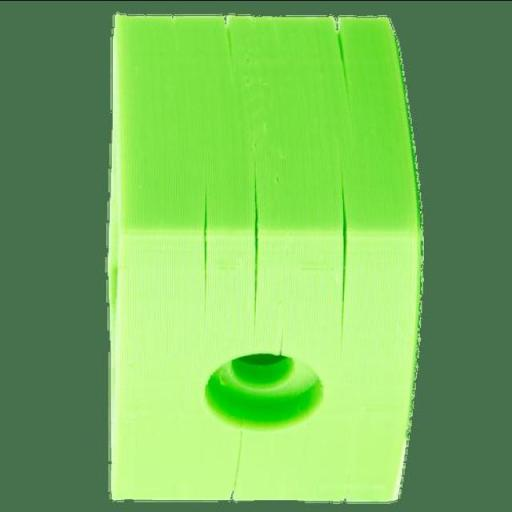cracks: (238, 177, 287, 311), (179, 179, 230, 307), (330, 188, 368, 319), (322, 23, 368, 110)
